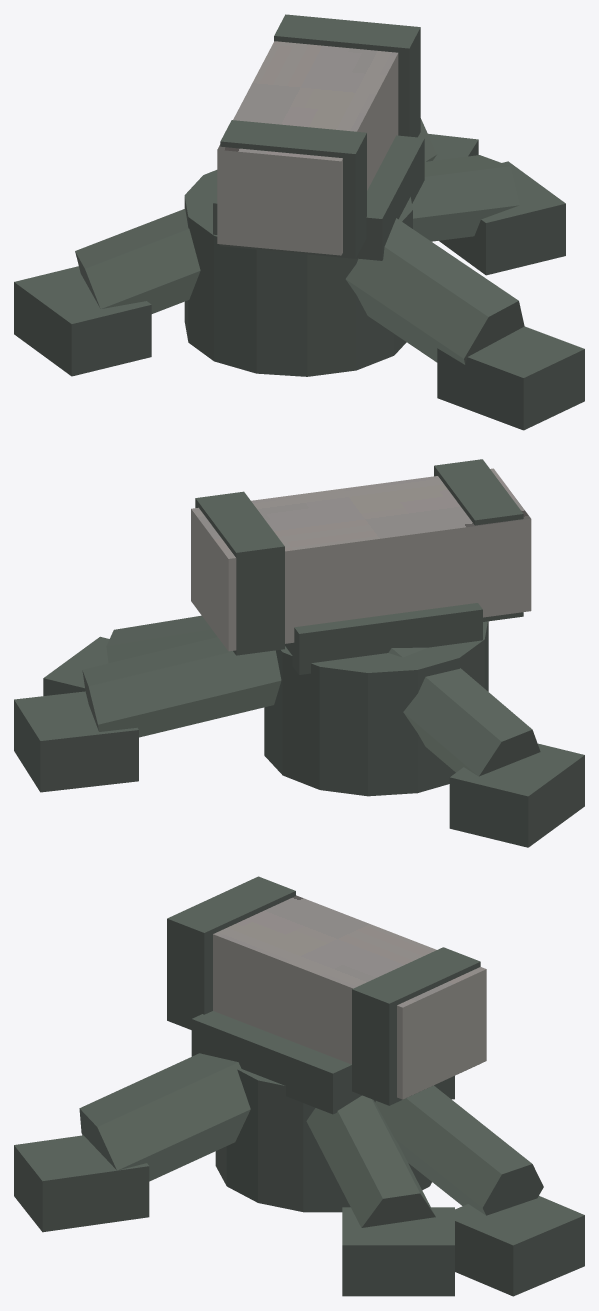
The model's file is Building_AncientSecurityTurret__C.glb.
The picture shows the model from 3 angles, top to bottom: view 1: azimuth 30°, elevation 25°; view 2: azimuth 150°, elevation 25°; view 3: azimuth 270°, elevation 25°; orthographic projection. The views are drawn at different scales.
Parts seen in each view (by area): view 1: AncientSecurityTurret__C; view 2: AncientSecurityTurret__C; view 3: AncientSecurityTurret__C.
Part boxes in pixels (x1,y1,x2,y2): AncientSecurityTurret__C: (14,14,584,430); AncientSecurityTurret__C: (14,459,584,847); AncientSecurityTurret__C: (14,876,584,1296).
Bounding box in the file's own units: 0.9885 × 0.46 × 1.01.
Materials: 1 (1 with a texture image).
